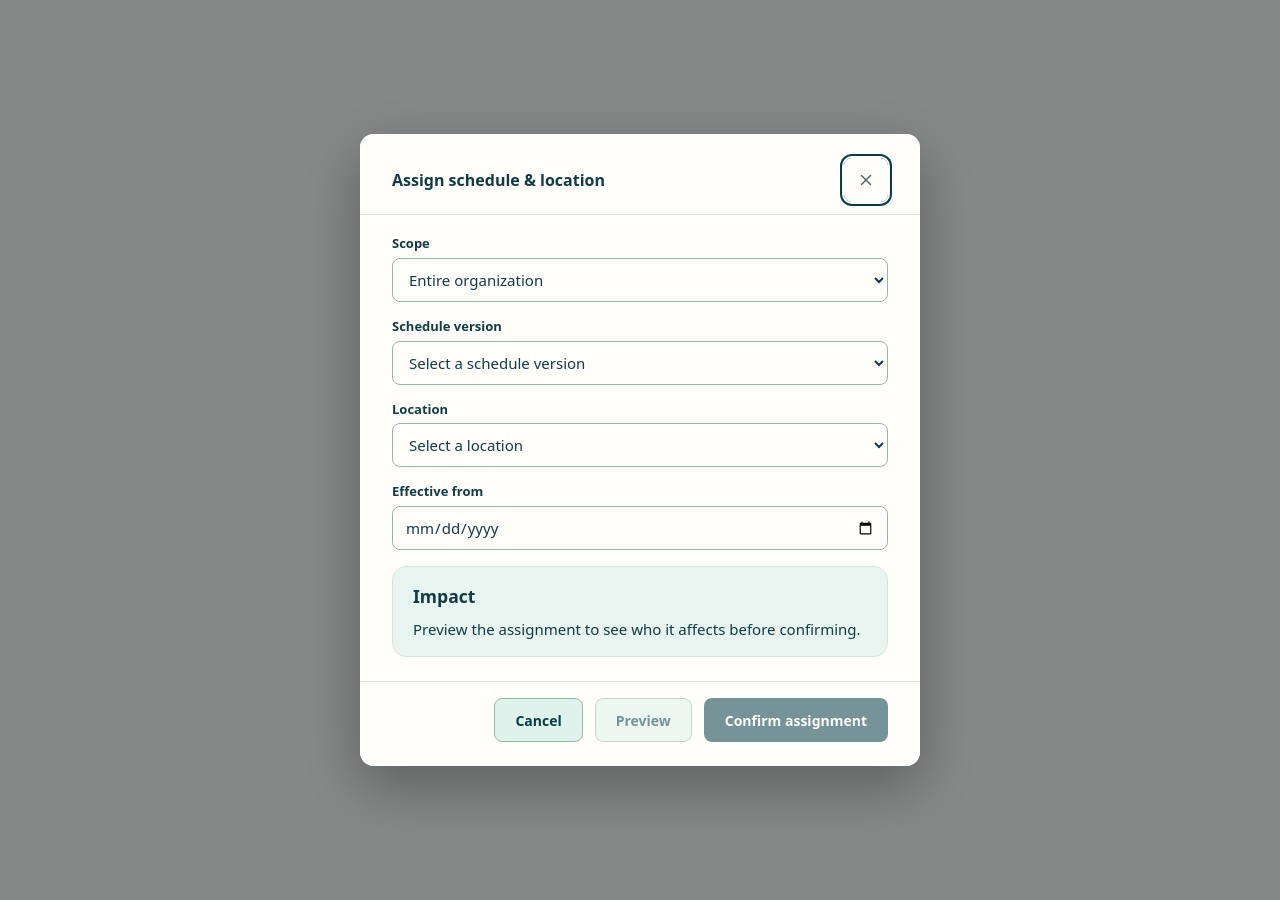
Test: ScheduleAssignmentModal › confirm button disabled until preview resolves
Expected: the button with test id "schedule-assignment-confirm-submit" is disabled, [704,698,888,742]
Select " Standard  · v1" in the dropdown labelled "Schedule version" at coordinates (640, 363), box [392,341,888,385]
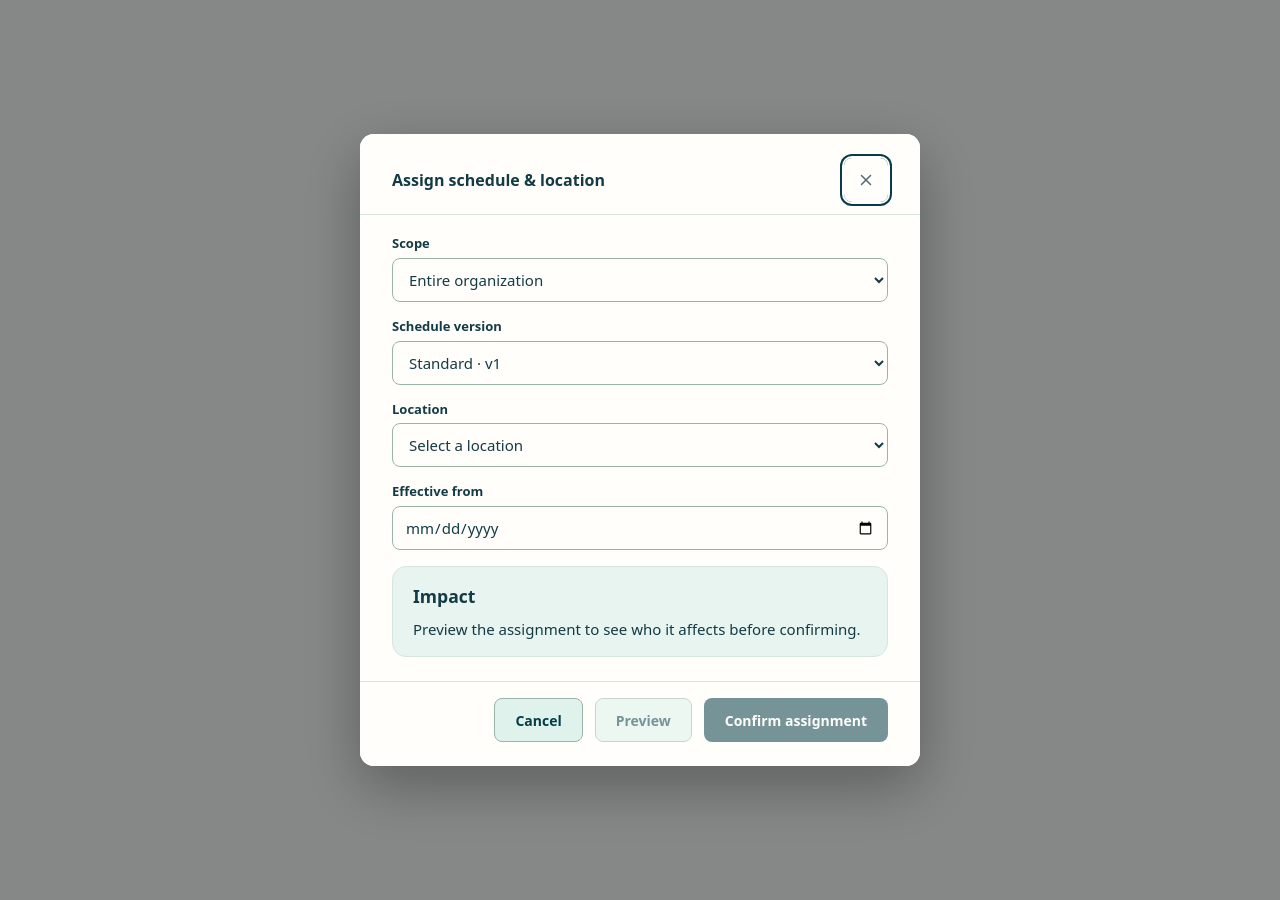
Select "Cairo" in the dropdown labelled "Location" at coordinates (640, 446), box [392,424,888,468]
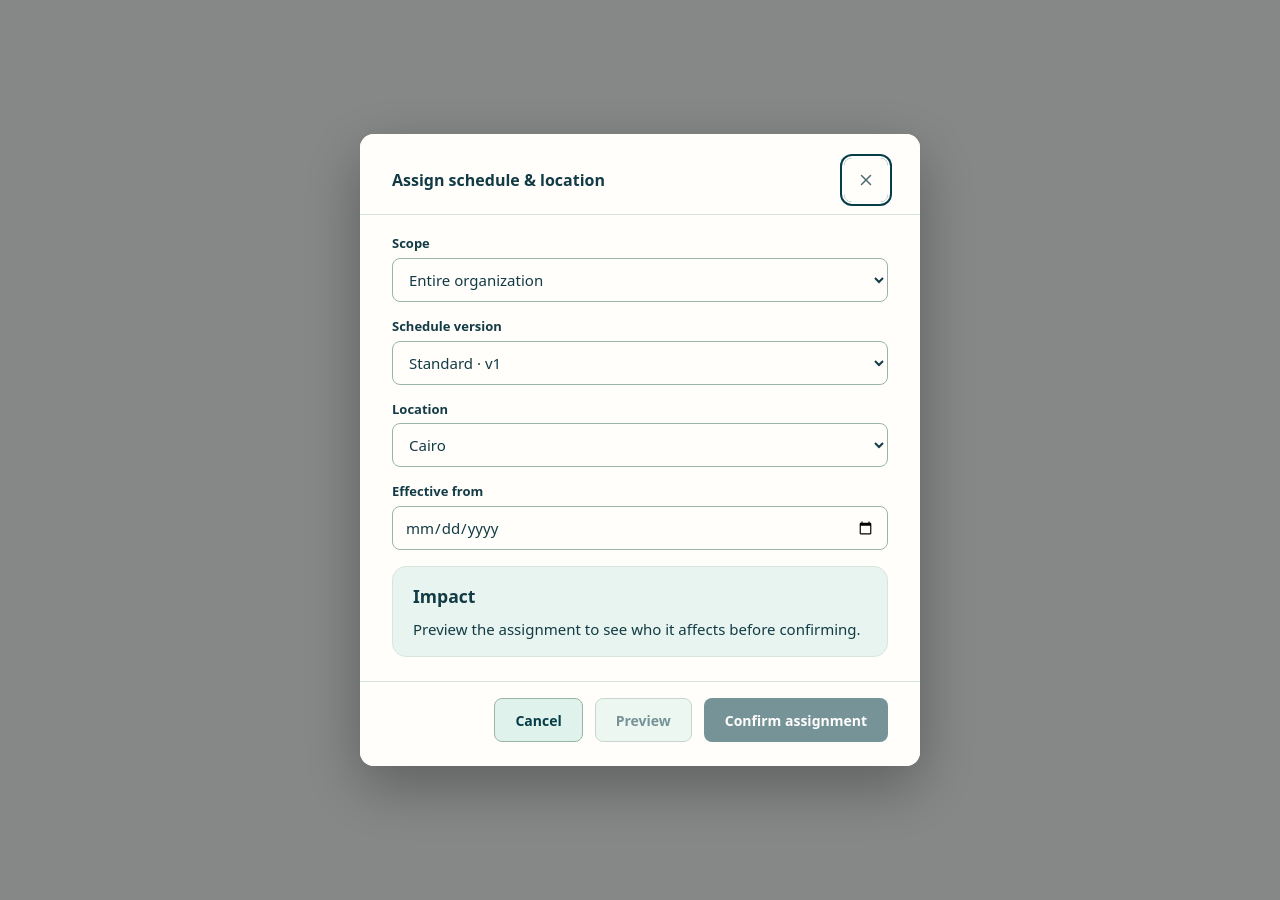
Type "2027-01-01" into the date field labelled "Effective from" at coordinates (640, 528), box [392,506,888,550]
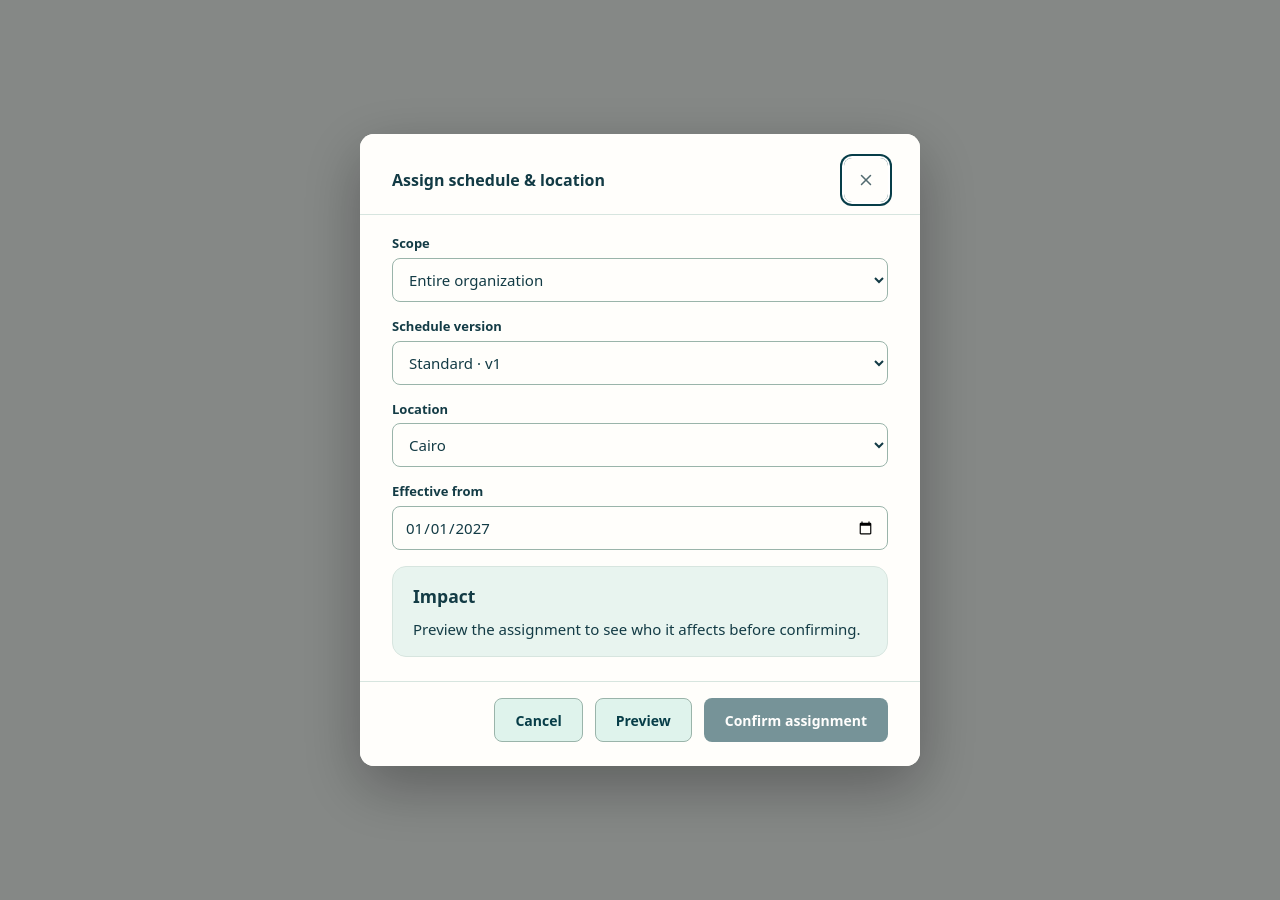
Expected: the button with test id "schedule-assignment-confirm-submit" is disabled, [704,698,888,742]
Click the button with test id "schedule-assignment-preview-submit" at coordinates (643, 720), box [595,698,692,742]
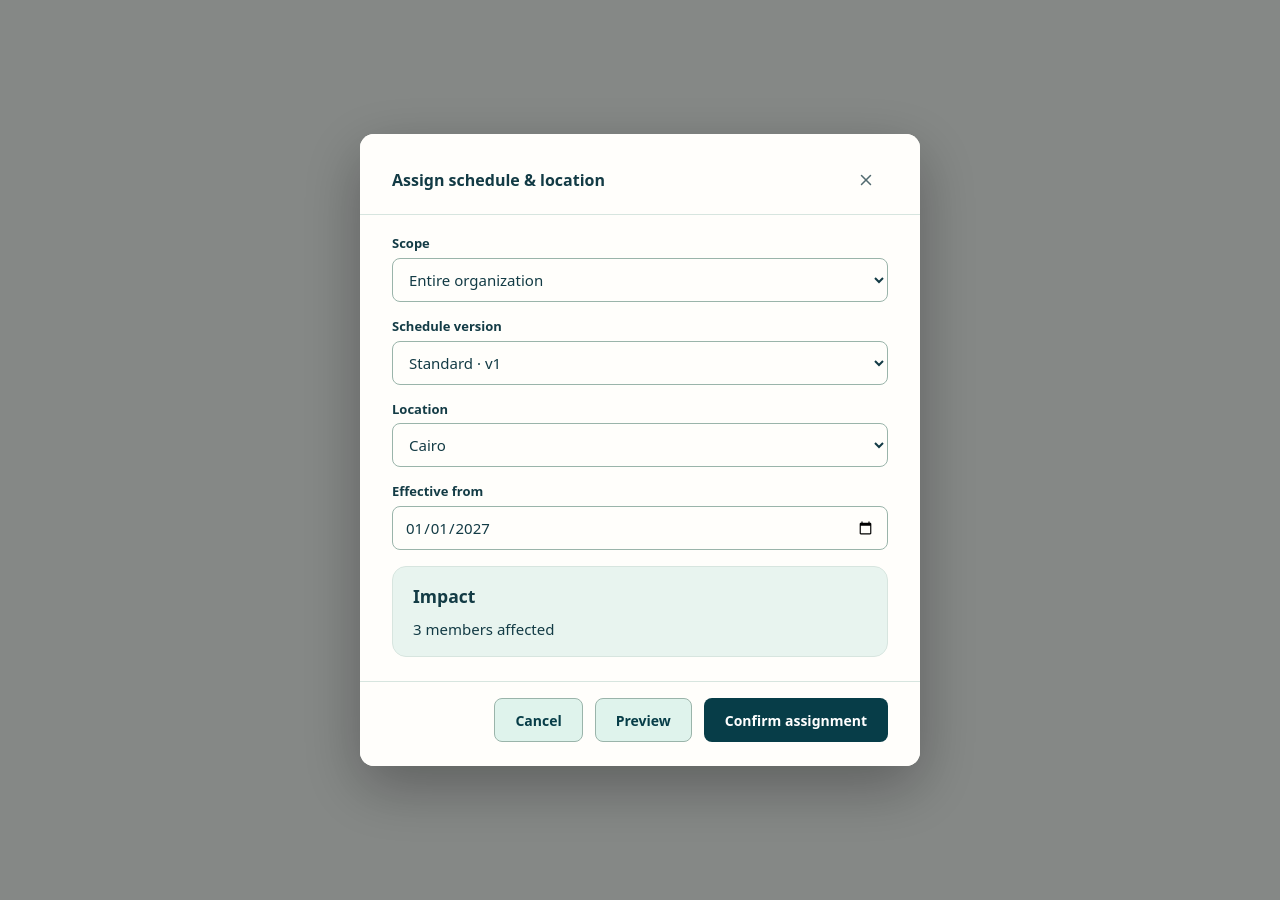
Expected: the button with test id "schedule-assignment-confirm-submit" is enabled, [704,698,888,742]
Expected: the text with test id "schedule-assignment-affected-count" shows "3", [413,619,554,639]
Select "Cairo" in the dropdown labelled "Location" at coordinates (640, 446), box [392,424,888,468]
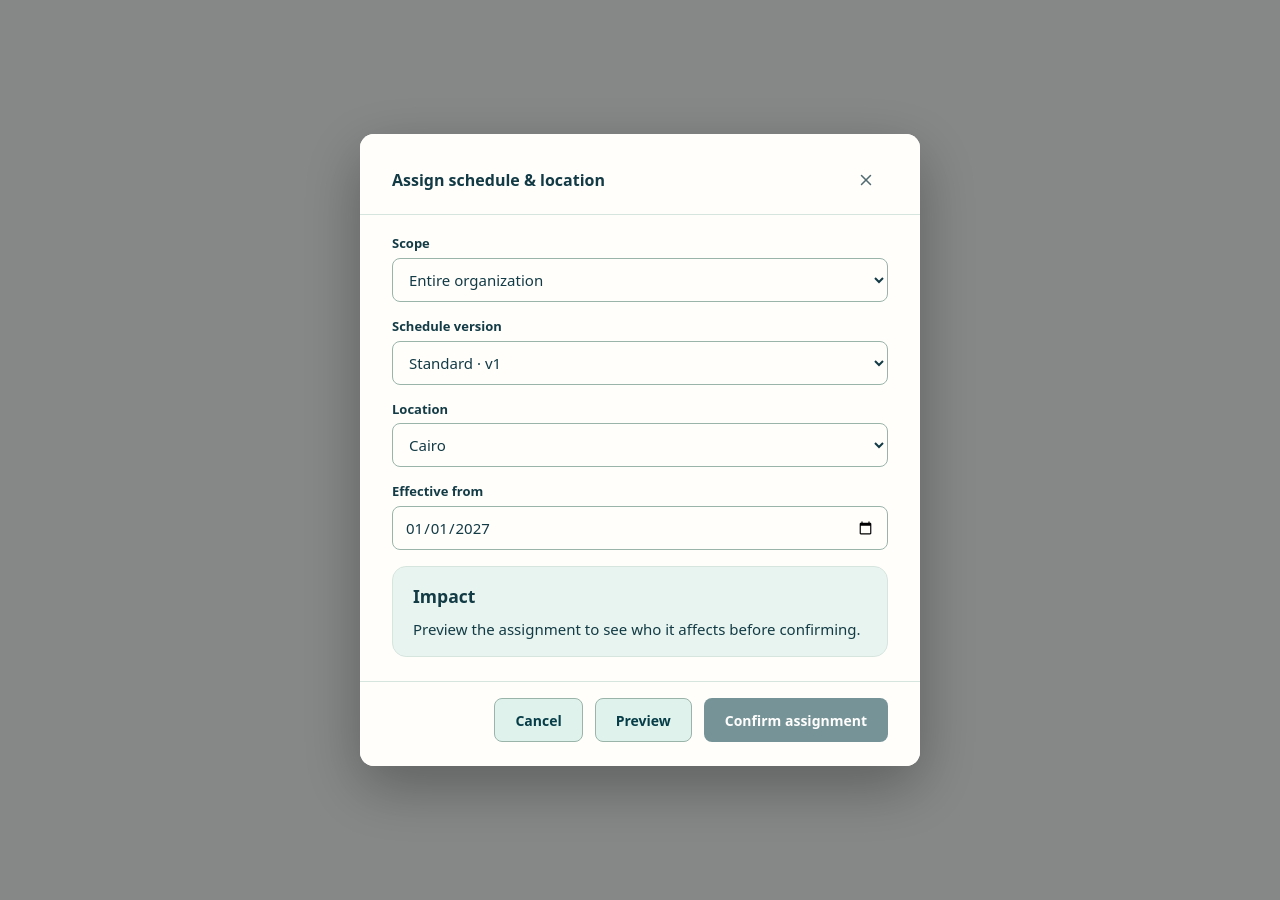
Expected: the button with test id "schedule-assignment-confirm-submit" is disabled, [704,698,888,742]
